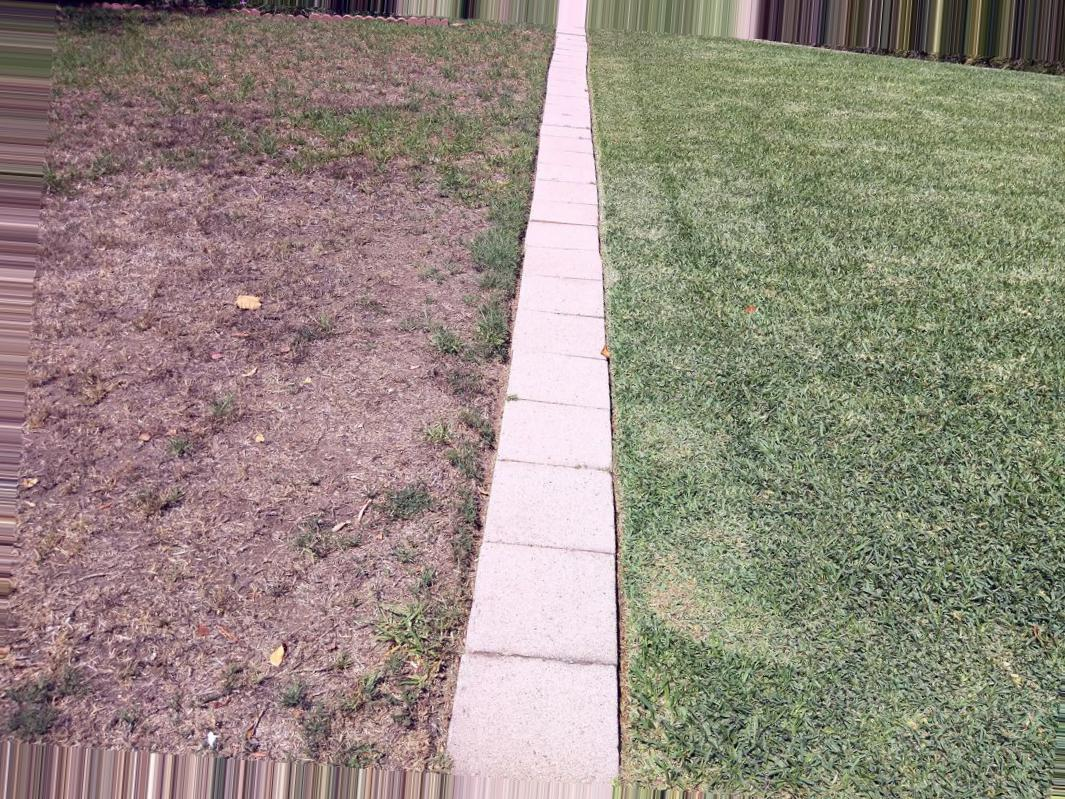patch: (63, 200, 256, 485), (283, 174, 437, 461), (43, 513, 282, 685), (294, 475, 454, 674), (86, 100, 263, 195), (142, 695, 366, 752)
